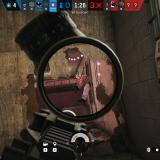Character: (73, 74, 92, 104)
